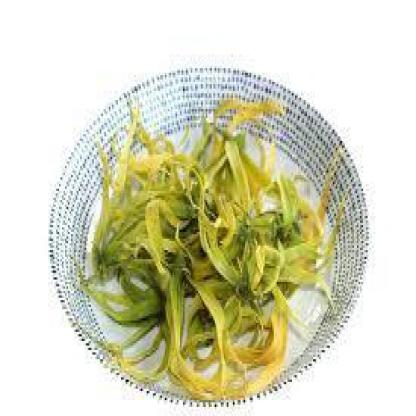Kenanga: (89, 94, 322, 376)
